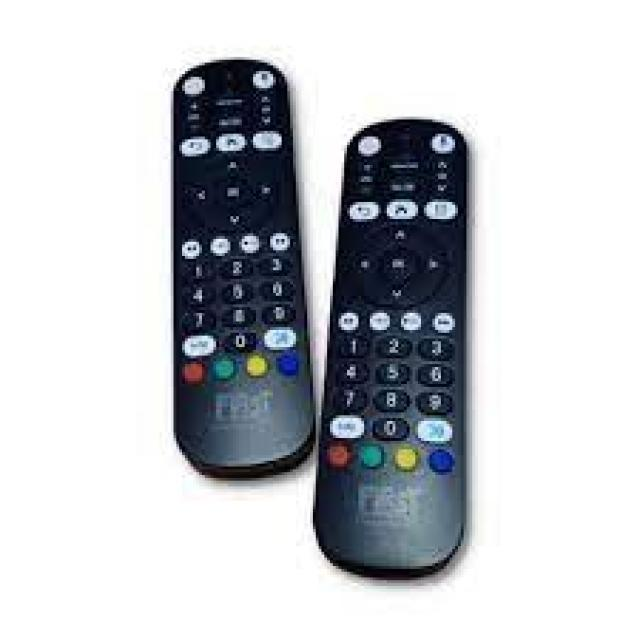remote: (322, 113, 485, 577), (170, 55, 313, 473)
